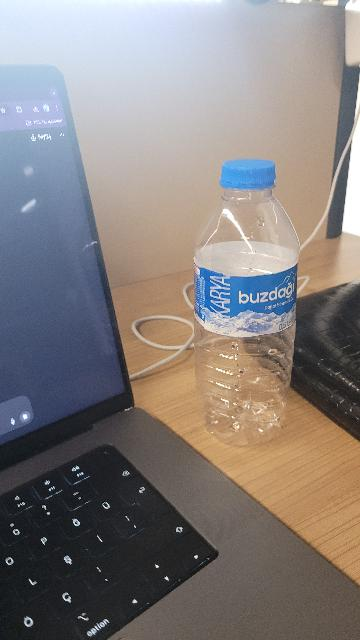Plastik: (187, 152, 306, 452)
